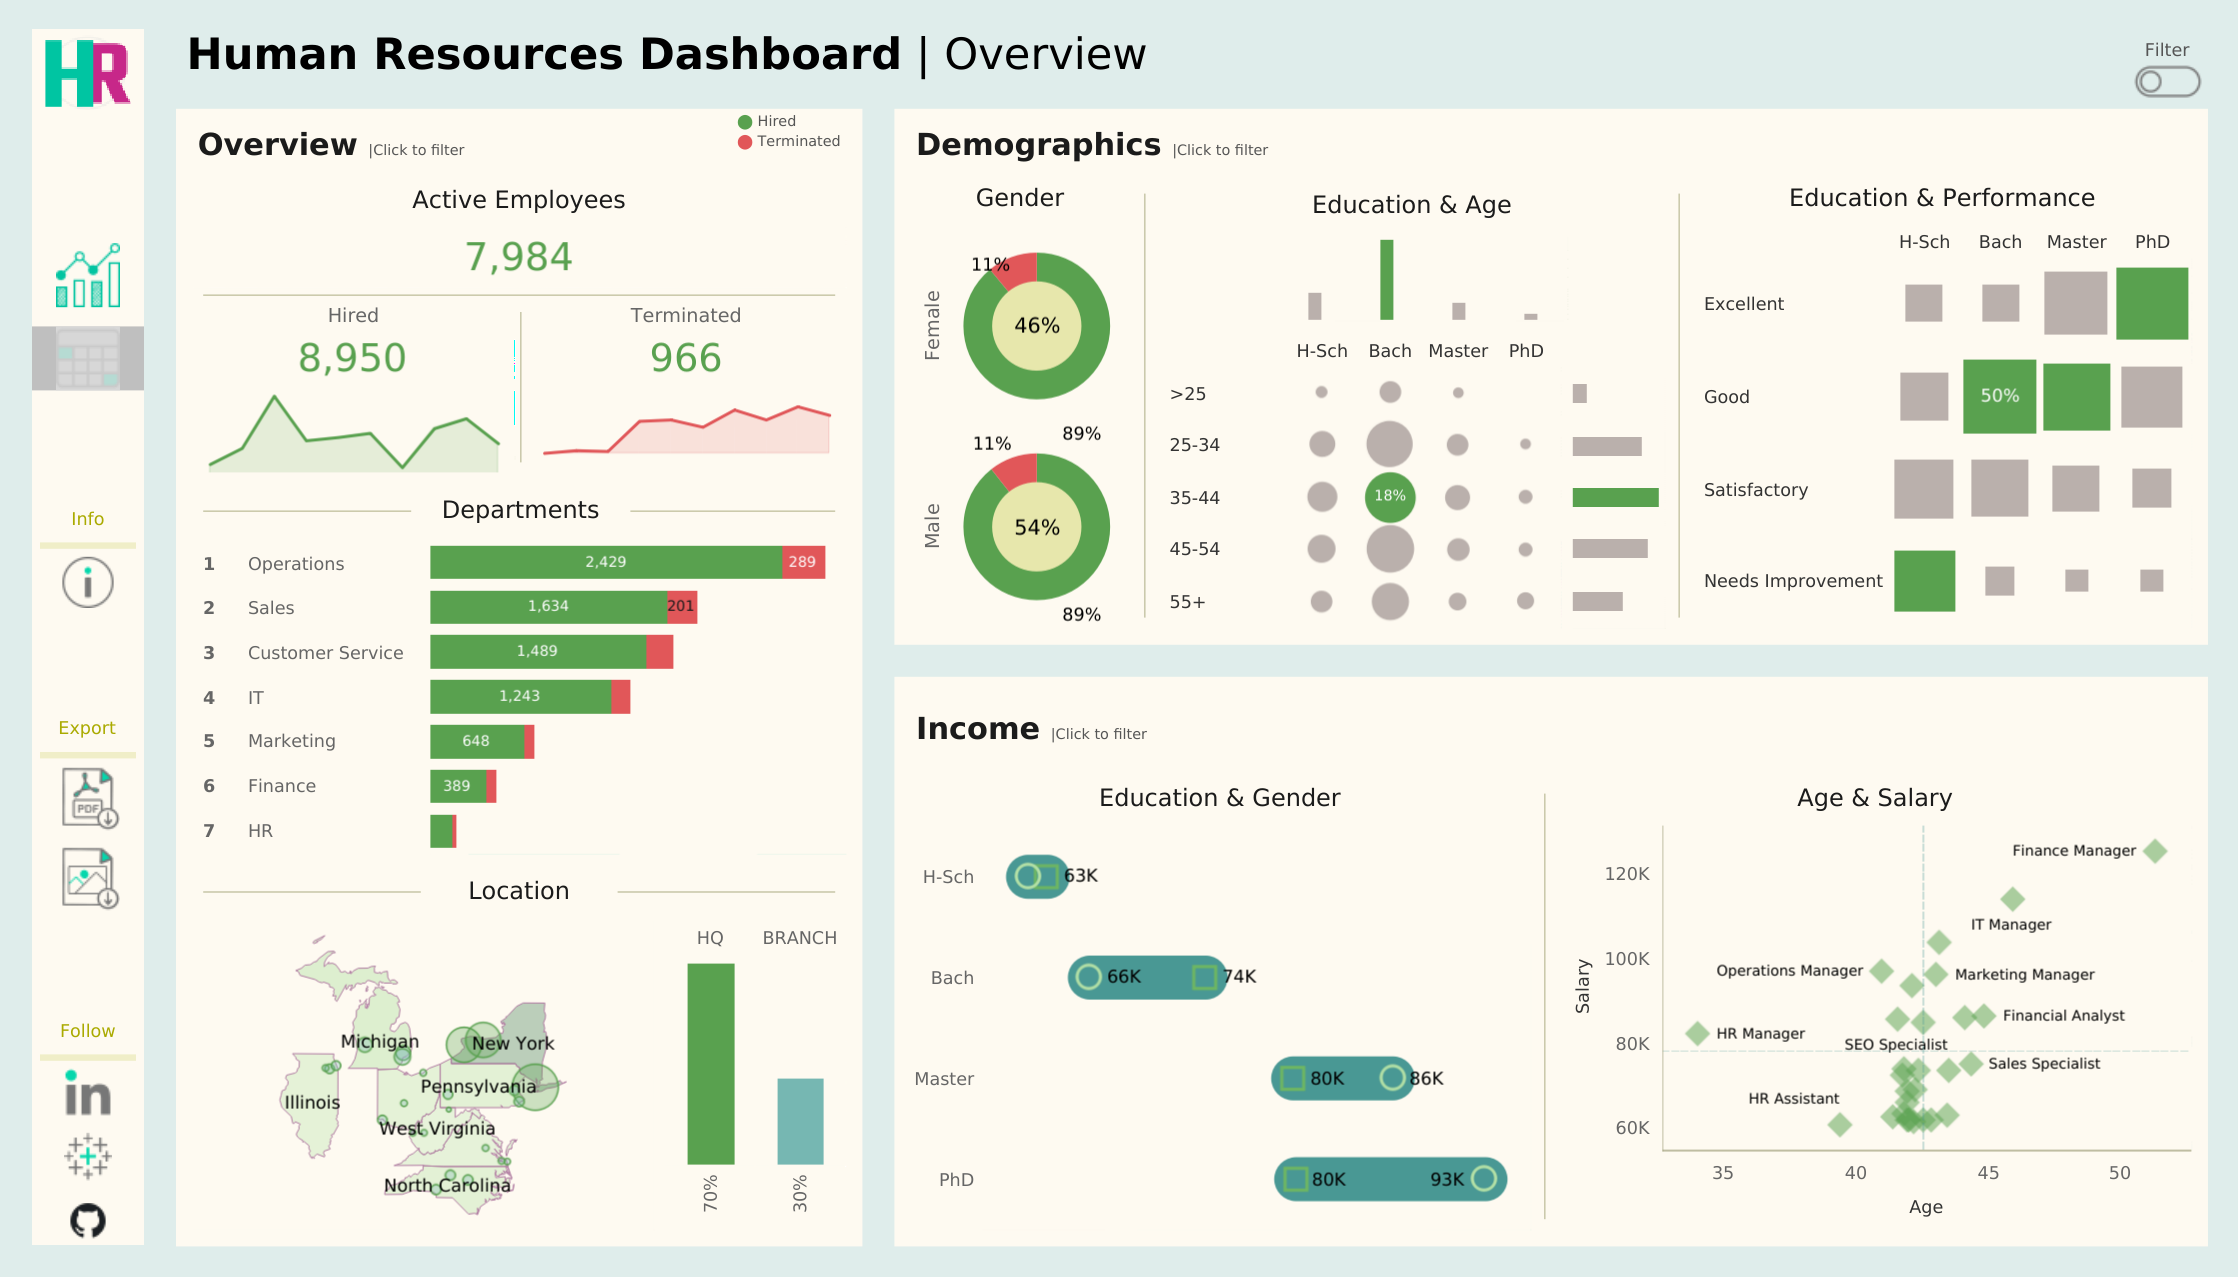

Layout of this report page (visuals, bound fields, positions):
{"tool":"tableau","page":{"name":"HR | Summary","canvas":[1400,800],"ordinal":0},"visuals":[{"type":"blank","box":[90,0,1313,241]},{"type":"filter","title":"Gender vs Education Level","param":"[federated.1tz5cqf0n7bg761ccbsql13com06].[none:Gender:nk]","box":[718,9,149,52]},{"type":"filter","title":"Gender vs Education Level","param":"[federated.1tz5cqf0n7bg761ccbsql13com06].[none:Calculation_0848314004742148:nk]","box":[867,9,149,52]},{"type":"filter","title":"Gender vs Education Level","param":"[federated.1tz5cqf0n7bg761ccbsql13com06].[none:Calculation_1148479962927109:nk]","box":[1016,9,149,52]},{"type":"filter","title":"Gender vs Education Level","param":"[federated.1tz5cqf0n7bg761ccbsql13com06].[yr:Hiredate:ok]","box":[1165,9,148,52]},{"type":"image","param":"Image/Logo.png","box":[20,18,70,55]},{"type":"text","box":[1326,21,57,19]},{"type":"dashboard-object","box":[1333,30,44,42]},{"type":"text","box":[458,67,75,30]},{"type":"blank","box":[20,73,70,69.5]},{"type":"text","box":[117,75,415,31]},{"type":"text","box":[566,75,807,31]},{"type":"text","box":[117,106,415,32]},{"type":"text","box":[566,111,144,26]},{"type":"blank","box":[715,111,1,285.5]},{"type":"text","box":[721,111,323,33]},{"type":"blank","box":[1049,111,1,285.5]},{"type":"text","box":[1055,111,318,26]},{"type":"worksheet","title":"Gender","mark":"Pie","rows":["Gender"],"cols":["Calculation_0848313933910017","Calculation_0848313933910017"],"box":[566,137,144,259.5]},{"type":"worksheet","title":"Education vs Performance","mark":"Square","rows":["Performance Rating"],"cols":["Education Level"],"box":[1055,137,318,259.5]},{"type":"worksheet","title":"BAN Active","mark":"Text","box":[117,138,415,46]},{"type":"worksheet","title":"Education Levels","mark":"Bar","rows":["Calculation_1148479949914112"],"cols":["Education Level"],"box":[721,144,323,61]},{"type":"dashboard-object","box":[30,152.5,50,40]},{"type":"blank","box":[117,184,415,1]},{"type":"text","box":[117,185,208,22]},{"type":"blank","box":[325,185,1,114]},{"type":"text","box":[326,185,205.9,22]},{"type":"dashboard-object","box":[20,204.5,70,40]},{"type":"worksheet","title":"Age vs Education","mark":"Circle","rows":["Calculation_0848313936879619"],"cols":["Education Level"],"box":[721,205,258,191.5]},{"type":"worksheet","title":"Age Groups","mark":"Bar","rows":["Calculation_0848313936879619"],"cols":["Calculation_1148479949914112"],"box":[979,205,65,191.5]},{"type":"worksheet","title":"BAN Hired","mark":"Text","box":[117,207,208,32]},{"type":"worksheet","title":"BAN Terminated","mark":"Text","box":[326,207,205.9,32]},{"type":"worksheet","title":"Hired By Year","mark":"Automatic","rows":["Calculation_1148479949914112","Calculation_1148479949914112"],"cols":["Hiredate"],"box":[117,239,208,60]},{"type":"worksheet","title":"Terminated By Year","mark":"Automatic","rows":["Calculation_1148479950147585","Calculation_1148479950147585"],"cols":["Termdate"],"box":[326,239,205.9,60]},{"type":"text","box":[90,241,1313,263]},{"type":"blank","box":[20,244.5,70,69.5]},{"type":"blank","box":[127,304,130,30]},{"type":"text","box":[257,304,137,30]},{"type":"blank","box":[394,304,128,30]},{"type":"text","box":[20,314,70,20]},{"type":"blank","box":[20,334,70,14]},{"type":"worksheet","title":"Departments","mark":"Automatic","rows":["Calculation_1148479961632772","Department"],"cols":["Calculation_1148479949914112"],"box":[117,334,415,203]},{"type":"dashboard-object","box":[20,348,70,32]},{"type":"blank","box":[20,380,70,65]},{"type":"text","box":[566,430.5,807,51]},{"type":"text","box":[20,445,70,20]},{"type":"blank","box":[20,465,70,14]},{"type":"dashboard-object","box":[20,479,70,40]},{"type":"text","box":[566,486.5,394,26]},{"type":"blank","box":[965,486.5,1,285.5]},{"type":"text","box":[971,486.5,402,26]},{"type":"worksheet","title":"Gender vs Education Level","mark":"Square","rows":["Education Level"],"cols":["Salary","Salary"],"box":[566,512.5,394,259.5]},{"type":"worksheet","title":"Age vs Salary","mark":"Shape","rows":["Salary"],"cols":["Calculation_0848313936273410"],"box":[971,512.5,402,259.5]},{"type":"blank","box":[20,519,70,10]},{"type":"dashboard-object","box":[20,529,70,40]},{"type":"blank","box":[127,542,135.7,30]},{"type":"text","box":[262.7,542,123.7,30]},{"type":"blank","box":[386.3,542,135.7,30]},{"type":"blank","box":[20,569,70,65]},{"type":"worksheet","title":"Map States","mark":"Automatic","box":[117,572,295,200]},{"type":"worksheet","title":"Location","mark":"Automatic","rows":["Calculation_1148479949914112"],"cols":["Calculation_1148479962927109","Calculation1"],"box":[412,572,120,200]},{"type":"text","box":[20,634,70,20]},{"type":"blank","box":[20,654,70,14]},{"type":"image","param":"Image/contact-linkedin.png","box":[20,668,70,30]},{"type":"blank","box":[20,698,70,10]},{"type":"image","param":"Image/contact-public.png","box":[20,708,70,30]},{"type":"blank","box":[20,738,70,10]},{"type":"image","param":"Image/Octicons-mark-github.svg","box":[20,748,70,30]}]}

Visuals, with their boxes in screenshot pixels (x1, y1, x2, y2), scaled from the page's 1400x800 canvas onto the 2238x1278 screenshot:
blank: bbox(144, 0, 2237, 385)
"Gender vs Education Level" filter: bbox(1148, 14, 1386, 97)
"Gender vs Education Level" filter: bbox(1386, 14, 1624, 97)
"Gender vs Education Level" filter: bbox(1624, 14, 1862, 97)
"Gender vs Education Level" filter: bbox(1862, 14, 2099, 97)
image: bbox(32, 29, 144, 117)
text: bbox(2120, 34, 2211, 64)
dashboard-object: bbox(2131, 48, 2201, 115)
text: bbox(732, 107, 852, 155)
blank: bbox(32, 117, 144, 228)
text: bbox(187, 120, 850, 169)
text: bbox(905, 120, 2195, 169)
text: bbox(187, 169, 850, 220)
text: bbox(905, 177, 1135, 219)
blank: bbox(1143, 177, 1145, 633)
text: bbox(1153, 177, 1669, 230)
blank: bbox(1677, 177, 1678, 633)
text: bbox(1686, 177, 2195, 219)
"Gender" worksheet (Pie marks): bbox(905, 219, 1135, 633)
"Education vs Performance" worksheet (Square marks): bbox(1686, 219, 2195, 633)
"BAN Active" worksheet (Text marks): bbox(187, 220, 850, 294)
"Education Levels" worksheet (Bar marks): bbox(1153, 230, 1669, 327)
dashboard-object: bbox(48, 244, 128, 308)
blank: bbox(187, 294, 850, 296)
text: bbox(187, 296, 520, 331)
blank: bbox(520, 296, 521, 478)
text: bbox(521, 296, 850, 331)
dashboard-object: bbox(32, 327, 144, 391)
"Age vs Education" worksheet (Circle marks): bbox(1153, 327, 1565, 633)
"Age Groups" worksheet (Bar marks): bbox(1565, 327, 1669, 633)
"BAN Hired" worksheet (Text marks): bbox(187, 331, 520, 382)
"BAN Terminated" worksheet (Text marks): bbox(521, 331, 850, 382)
"Hired By Year" worksheet: bbox(187, 382, 520, 478)
"Terminated By Year" worksheet: bbox(521, 382, 850, 478)
text: bbox(144, 385, 2237, 805)
blank: bbox(32, 391, 144, 502)
blank: bbox(203, 486, 411, 534)
text: bbox(411, 486, 630, 534)
blank: bbox(630, 486, 834, 534)
text: bbox(32, 502, 144, 534)
blank: bbox(32, 534, 144, 556)
"Departments" worksheet: bbox(187, 534, 850, 858)
dashboard-object: bbox(32, 556, 144, 607)
blank: bbox(32, 607, 144, 711)
text: bbox(905, 688, 2195, 769)
text: bbox(32, 711, 144, 743)
blank: bbox(32, 743, 144, 765)
dashboard-object: bbox(32, 765, 144, 829)
text: bbox(905, 777, 1535, 819)
blank: bbox(1543, 777, 1544, 1233)
text: bbox(1552, 777, 2195, 819)
"Gender vs Education Level" worksheet (Square marks): bbox(905, 819, 1535, 1233)
"Age vs Salary" worksheet (Shape marks): bbox(1552, 819, 2195, 1233)
blank: bbox(32, 829, 144, 845)
dashboard-object: bbox(32, 845, 144, 909)
blank: bbox(203, 866, 420, 914)
text: bbox(420, 866, 618, 914)
blank: bbox(618, 866, 834, 914)
blank: bbox(32, 909, 144, 1013)
"Map States" worksheet: bbox(187, 914, 659, 1233)
"Location" worksheet: bbox(659, 914, 850, 1233)
text: bbox(32, 1013, 144, 1045)
blank: bbox(32, 1045, 144, 1067)
image: bbox(32, 1067, 144, 1115)
blank: bbox(32, 1115, 144, 1131)
image: bbox(32, 1131, 144, 1179)
blank: bbox(32, 1179, 144, 1195)
image: bbox(32, 1195, 144, 1243)
